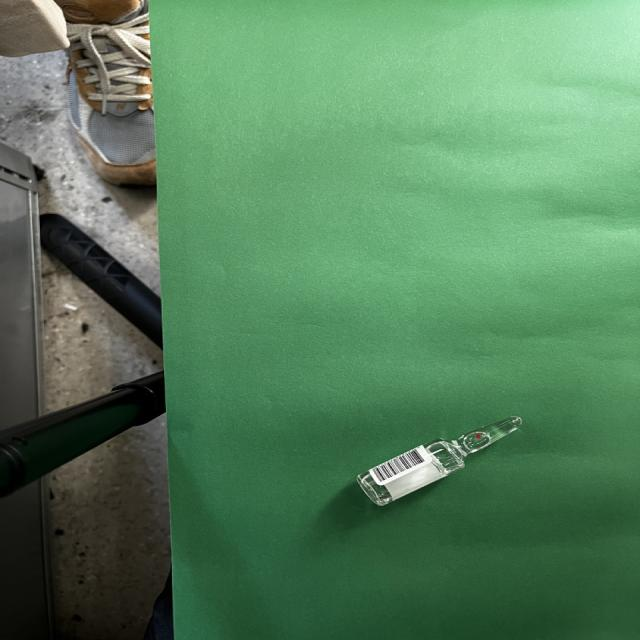Ampoules: (356, 416, 523, 507)
